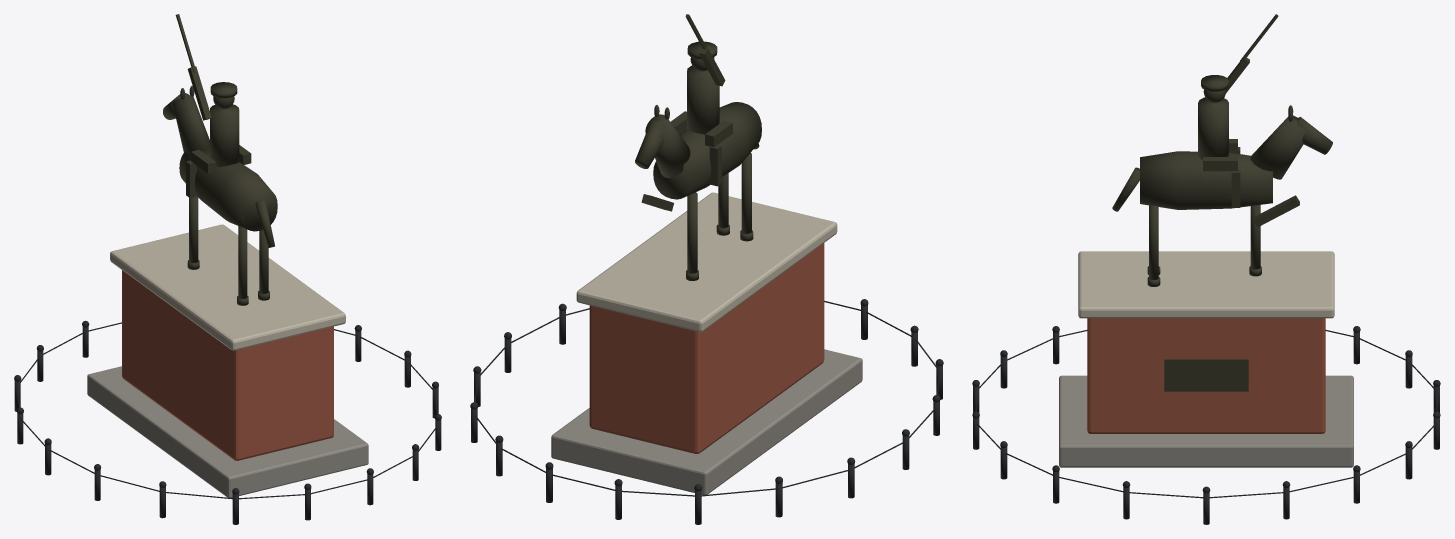
The model's file is estatua.glb.
3 views of the same model, side by side, from view 1: azimuth 30°, elevation 25°; view 2: azimuth 150°, elevation 25°; view 3: azimuth 270°, elevation 25° (orthographic). The views are drawn at different scales.
Parts seen in each view (by area): view 1: pedestal, cornija, base, cavalo_corpo, cavaleiro_tronco, cavalo_pescoco, perna.001, perna.003, perna, braco_erguido; view 2: pedestal, cornija, base, cavalo_corpo, cavaleiro_tronco, cavalo_pescoco, perna.003, cavalo_cabeca, perna.001, perna; view 3: pedestal, cornija, base, cavalo_corpo, placa, cavalo_pescoco, cavaleiro_tronco, perna, cavalo_cabeca, perna.003, perna.002.
Boxes of the visible parts, bbox=[...] form: pedestal: bbox=[122, 270, 333, 460]; cornija: bbox=[110, 224, 345, 350]; base: bbox=[87, 366, 368, 497]; cavalo_corpo: bbox=[179, 149, 277, 231]; cavaleiro_tronco: bbox=[210, 104, 239, 167]; cavalo_pescoco: bbox=[172, 95, 209, 153]; perna.001: bbox=[238, 226, 247, 298]; perna.003: bbox=[189, 196, 198, 263]; perna: bbox=[259, 230, 268, 293]; braco_erguido: bbox=[187, 66, 211, 120]; pedestal: bbox=[589, 243, 824, 453]; cornija: bbox=[576, 192, 837, 332]; base: bbox=[551, 349, 862, 494]; cavalo_corpo: bbox=[653, 102, 761, 199]; cavaleiro_tronco: bbox=[687, 65, 719, 134]; cavalo_pescoco: bbox=[645, 114, 690, 178]; perna.003: bbox=[687, 192, 697, 273]; cavalo_cabeca: bbox=[635, 120, 665, 168]; perna.001: bbox=[741, 152, 751, 233]; perna: bbox=[718, 173, 728, 228]; pedestal: bbox=[1087, 318, 1325, 433]; cornija: bbox=[1078, 251, 1334, 318]; base: bbox=[1059, 375, 1353, 467]; cavalo_corpo: bbox=[1140, 151, 1272, 209]; placa: bbox=[1164, 359, 1248, 391]; cavalo_pescoco: bbox=[1250, 116, 1308, 179]; cavaleiro_tronco: bbox=[1198, 97, 1228, 160]; perna: bbox=[1149, 205, 1158, 279]; cavalo_cabeca: bbox=[1297, 117, 1332, 154]; perna.003: bbox=[1250, 205, 1260, 269]; perna.002: bbox=[1253, 195, 1299, 227].
Bounding box in the file's own units: 9.36 × 9.67 × 10.01.
